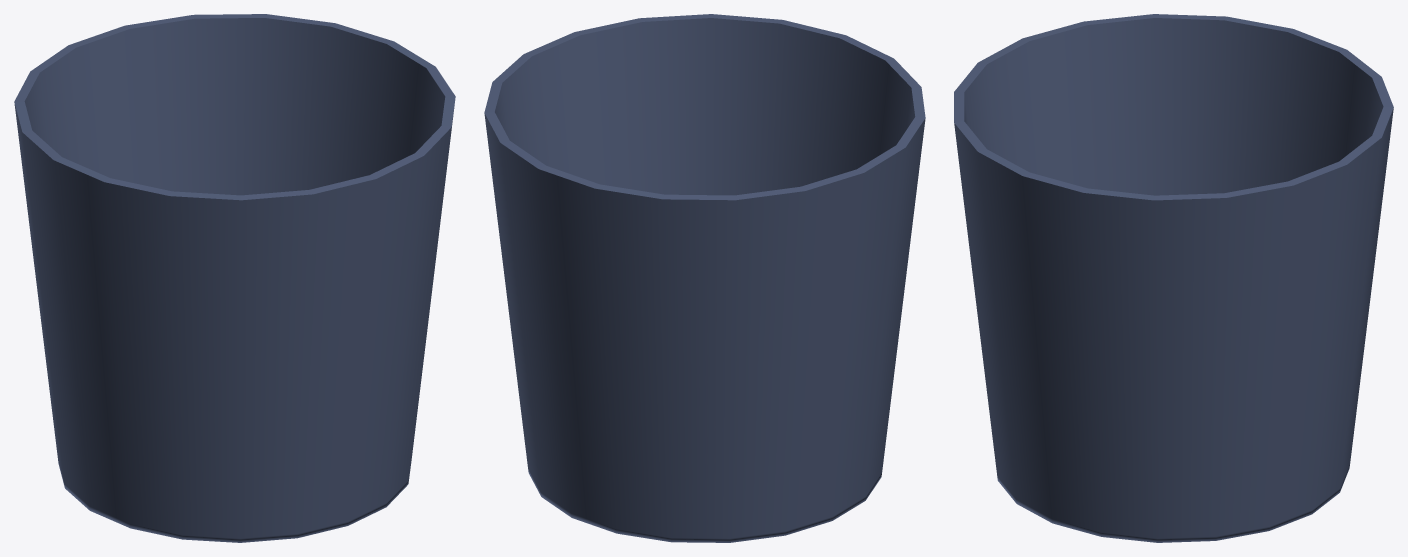
File: Cup.fbx
The picture shows the model from 3 angles, left to right: view 1: azimuth 30°, elevation 25°; view 2: azimuth 150°, elevation 25°; view 3: azimuth 270°, elevation 25°; orthographic projection.
Parts seen in each view (by area): view 1: Cup; view 2: Cup; view 3: Cup.
Part boxes in pixels (x1,y1,x2,y2): Cup: (14,14,455,542); Cup: (484,14,925,542); Cup: (954,14,1393,542).
Bounding box in the file's own units: 31.37 × 28.36 × 31.26.
